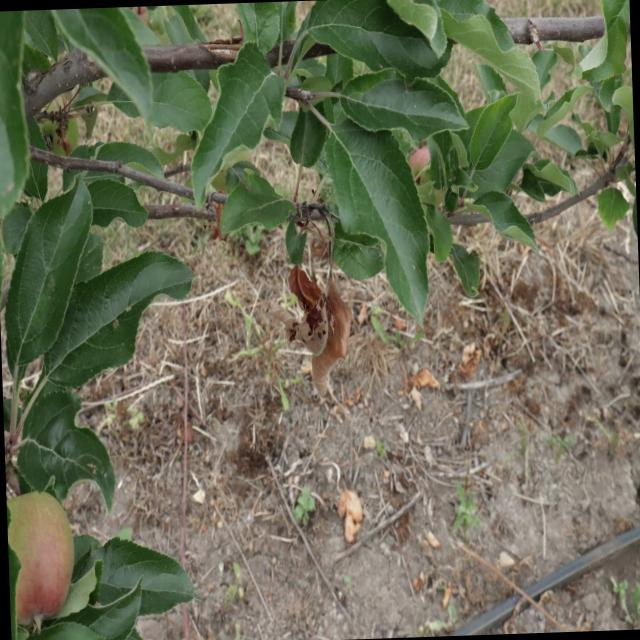-FireBlight-: (288, 205, 354, 398)
